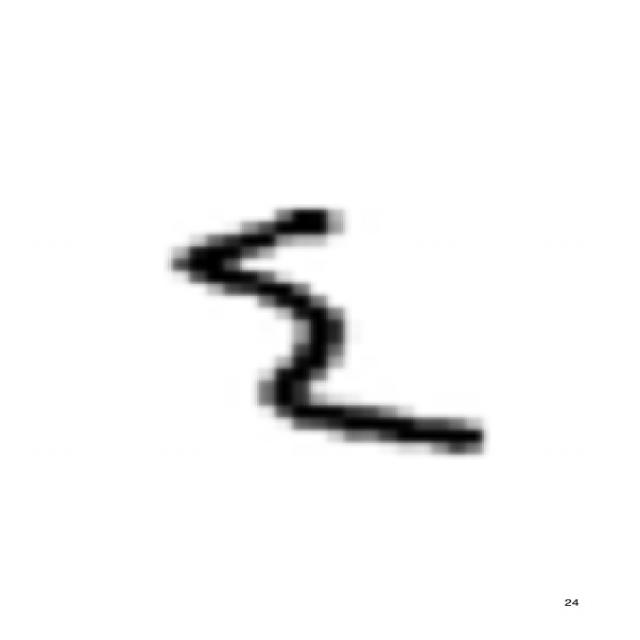4 -four-: (145, 194, 502, 471)
